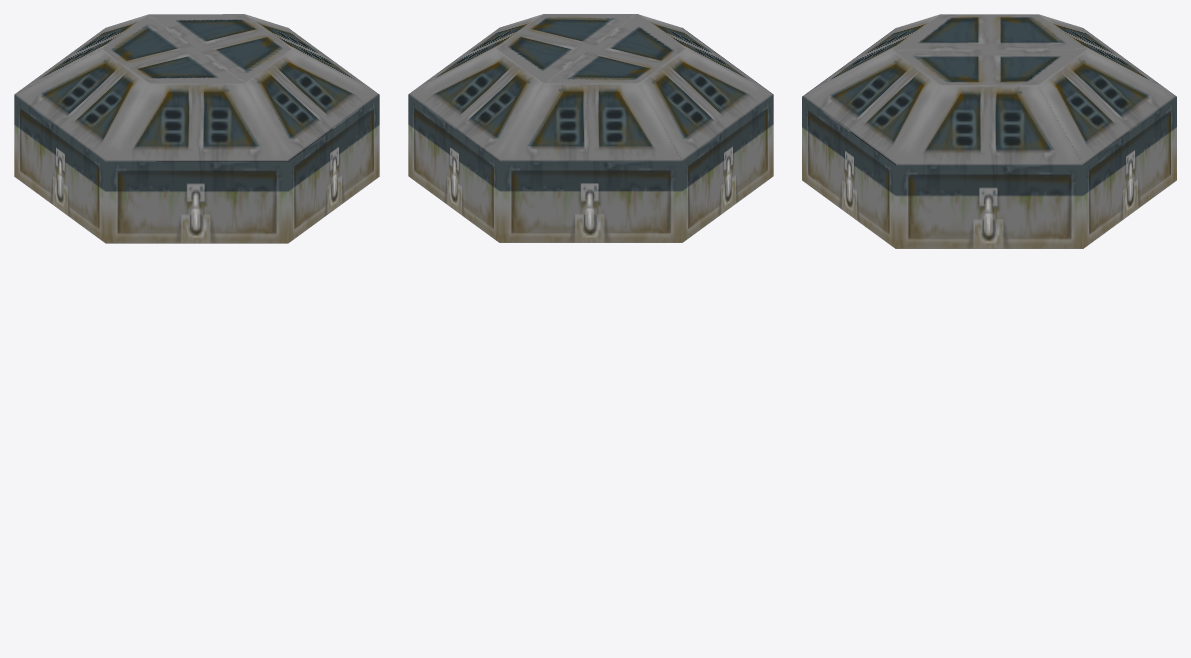
The model's file is srmpopup.glb.
3 views of the same model, side by side, from view 1: azimuth 30°, elevation 25°; view 2: azimuth 150°, elevation 25°; view 3: azimuth 270°, elevation 25° (orthographic). The views are drawn at different scales.
Parts seen in each view (by area): view 1: Doorbase, Door05, Door06, Door03, Door02; view 2: Doorbase, Door02, Door06, Door03, Door05; view 3: Doorbase, Door03, Door05, Door02, Door06.
Boxes of the visible parts, box(x1,y1,x2,y2) form: Doorbase: box(14, 34, 379, 243); Door05: box(105, 48, 379, 161); Door06: box(14, 14, 243, 161); Door03: box(150, 14, 376, 92); Door02: box(15, 14, 263, 93); Doorbase: box(408, 27, 773, 242); Door02: box(409, 48, 681, 161); Door06: box(544, 14, 773, 160); Door03: box(409, 14, 637, 93); Door05: box(499, 14, 771, 93); Doorbase: box(802, 28, 1176, 248); Door03: box(893, 49, 1085, 165); Door05: box(803, 14, 941, 164); Door02: box(1038, 14, 1176, 164); Door06: box(893, 14, 1085, 49).
Bounding box in the file's own units: 7.27 × 13.6 × 8.38.
4 materials, 4 textured.
